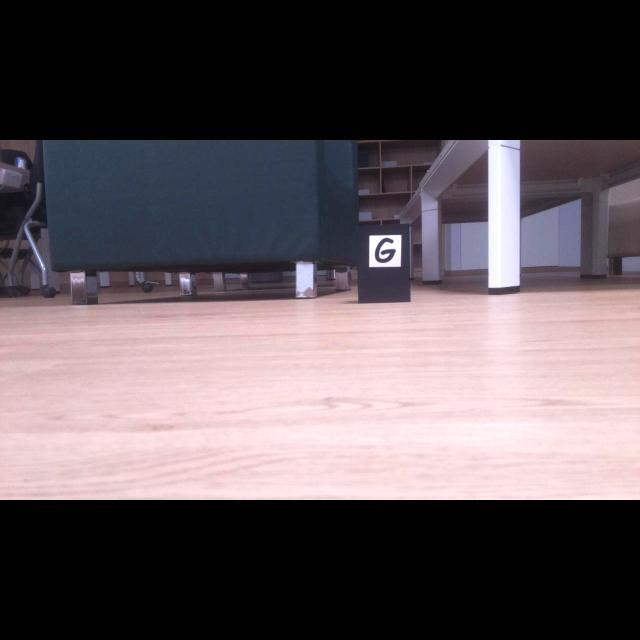G: (375, 238, 396, 263)
